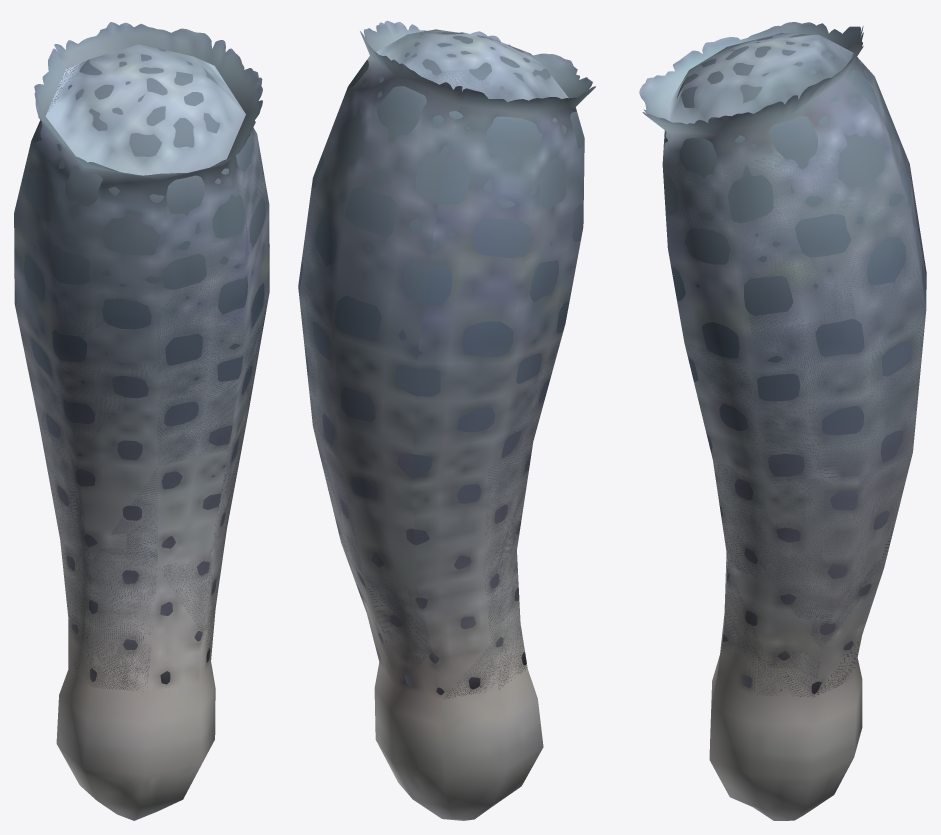
The model's file is venus-flower-basket.glb.
3 renders of one model, left to right at view 1: azimuth 30°, elevation 25°; view 2: azimuth 150°, elevation 25°; view 3: azimuth 270°, elevation 25°, orthographic. The views are drawn at different scales.
Bounding box in the file's own units: 1.85 × 5.97 × 2.05.
1 material, 1 textured.
